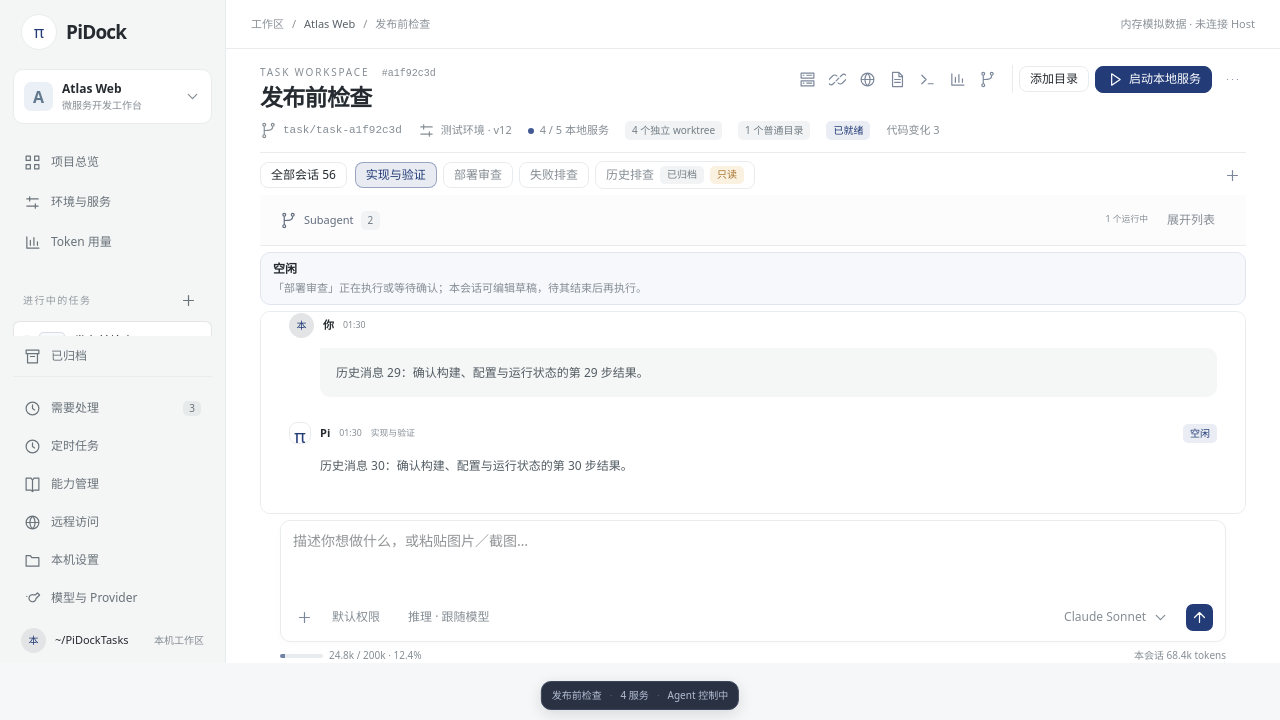
runtime logs panel › shows per-service lifecycle lines from in-memory data
The image size is (1280, 720).
(page scrolled)
Expected: the heading "发布前检查" is shown, [260, 81, 372, 113]
What coordinates should you click on to do the following:
click the button named "日志"
I would click on:
 (958, 79)
Its box is [944, 65, 972, 93].
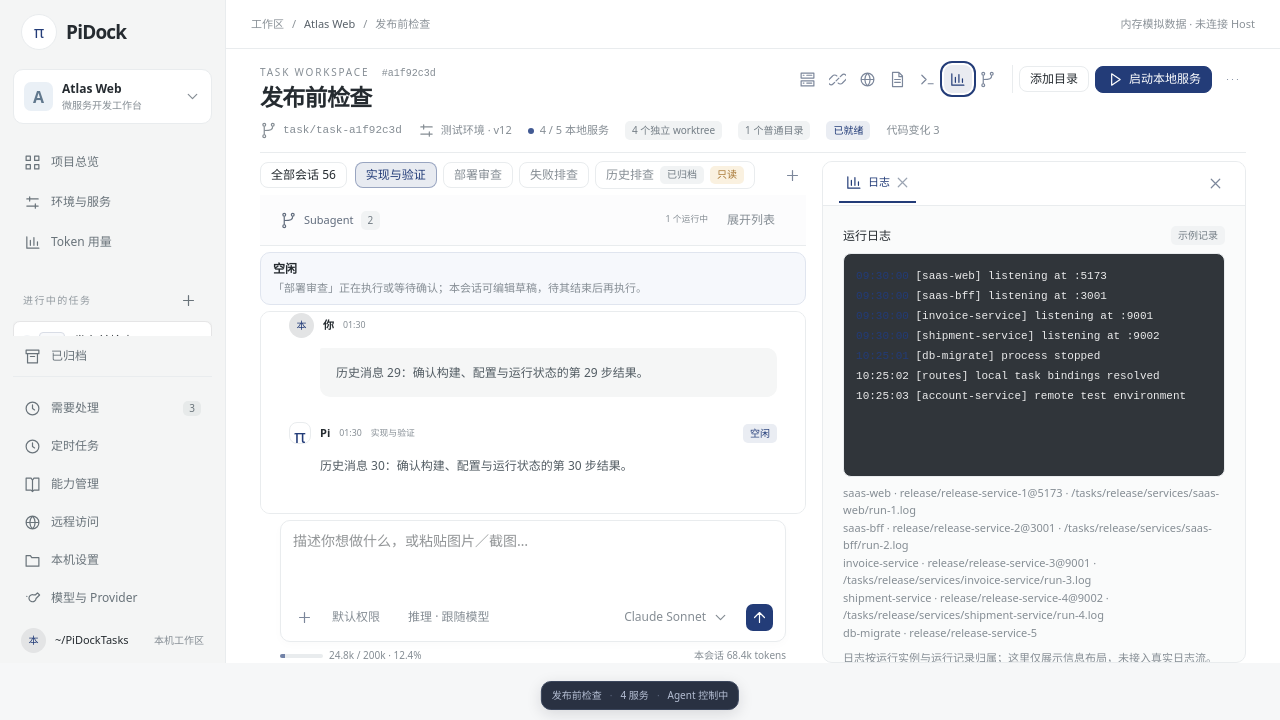
Expected: the element with test id "runtime-logs" shows "saas-web", [922, 270, 975, 282]
Expected: the element with test id "runtime-logs" shows "listening at", [988, 270, 1107, 282]
Expected: the element with test id "runtime-logs" shows "[routes]", [856, 370, 1160, 382]
